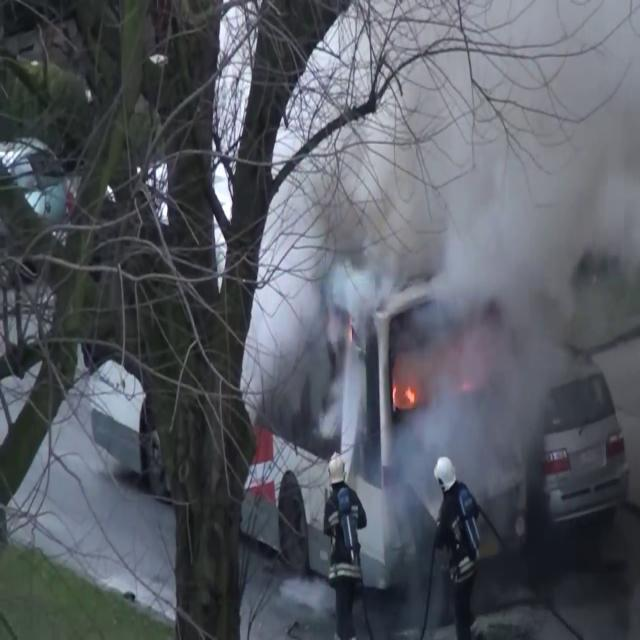Smoke: (402, 7, 638, 496)
